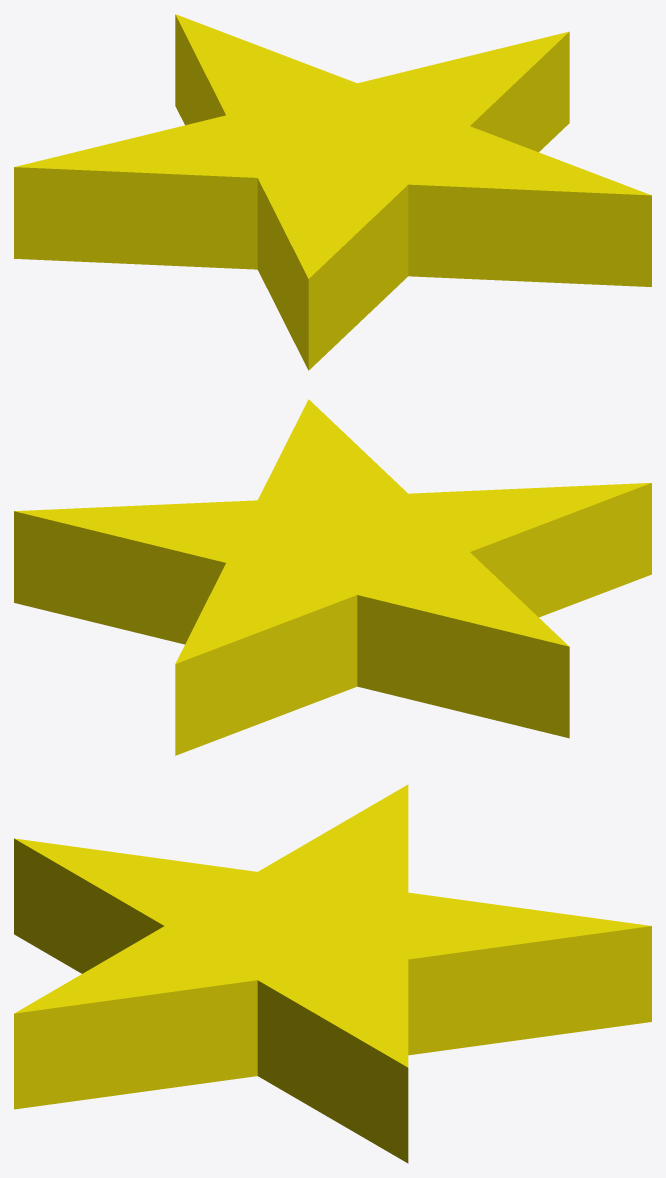
File: estrela_teste.glb
3 views of the same model, one above another, from view 1: azimuth 30°, elevation 25°; view 2: azimuth 150°, elevation 25°; view 3: azimuth 270°, elevation 25° (orthographic). The views are drawn at different scales.
Visible parts, largest first — view 1: estrela; view 2: estrela; view 3: estrela.
Boxes of the visible parts, x1,y1,x2,y2 form: estrela: [14, 14, 651, 370]; estrela: [14, 399, 651, 755]; estrela: [14, 784, 651, 1163].
Bounding box in the file's own units: 0.9511 × 0.15 × 0.9045.
